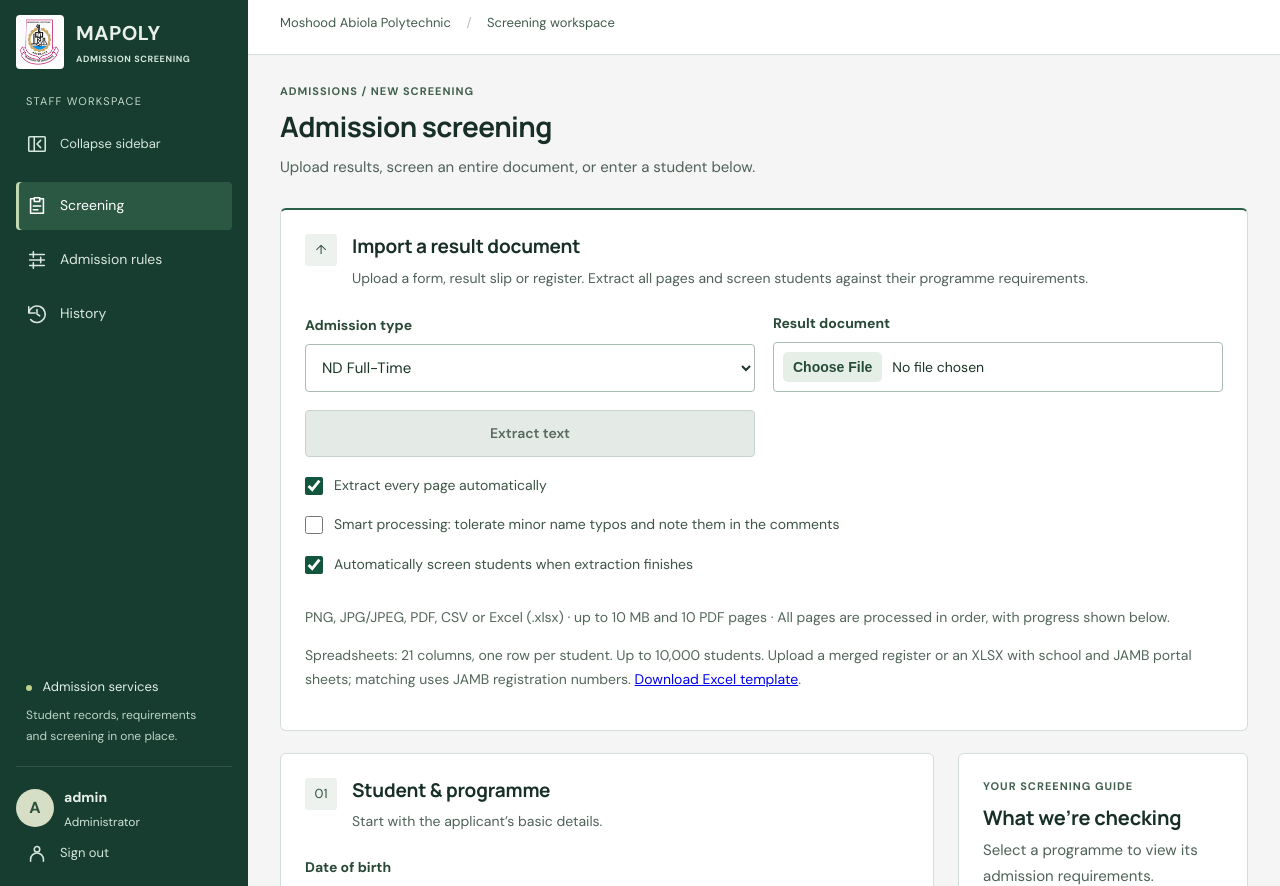
Test: manual screening workspace › lets staff save changed requirements
Click the button "Admission rules" at (124, 260), box [16,236,232,284]
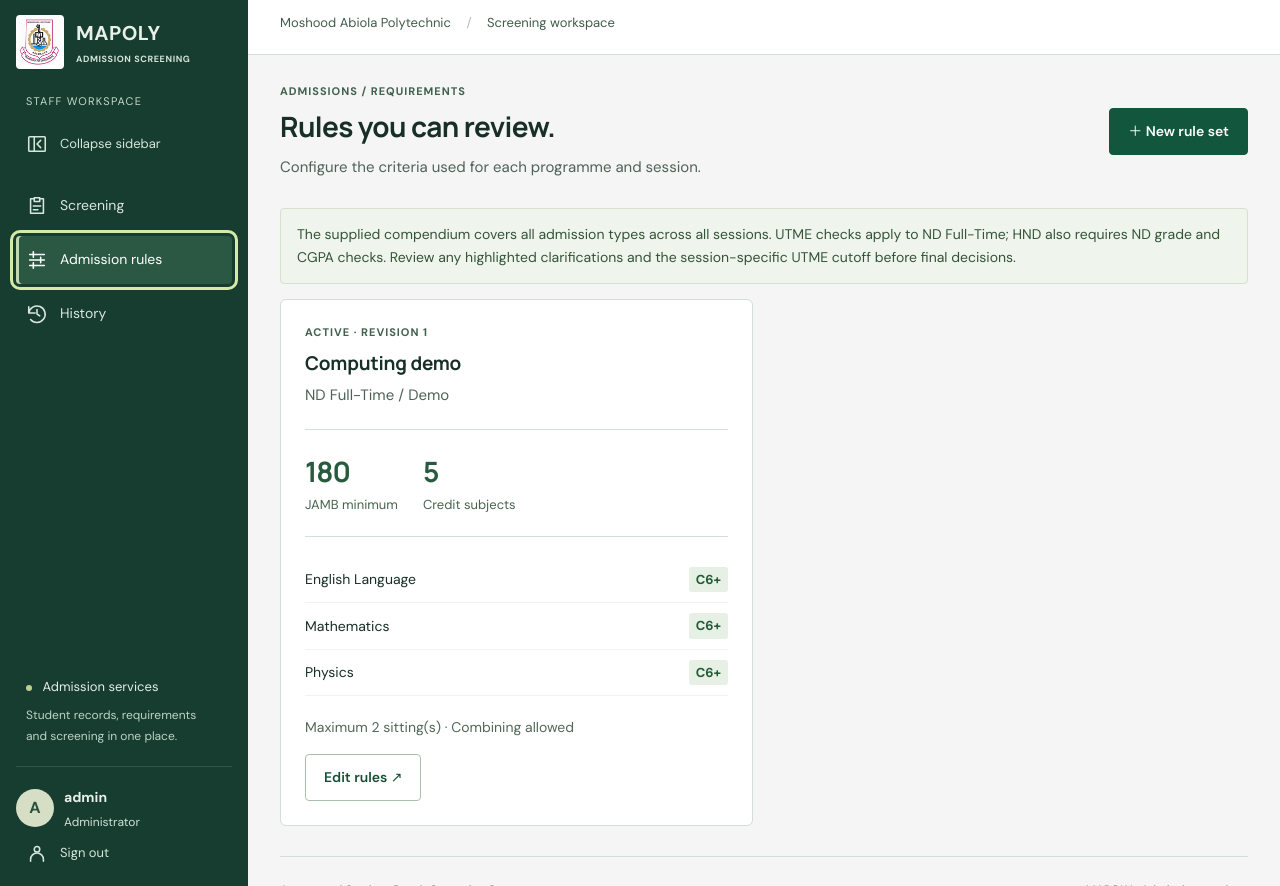
Click the button "Edit rules ↗" at (363, 778), box [305,754,422,801]
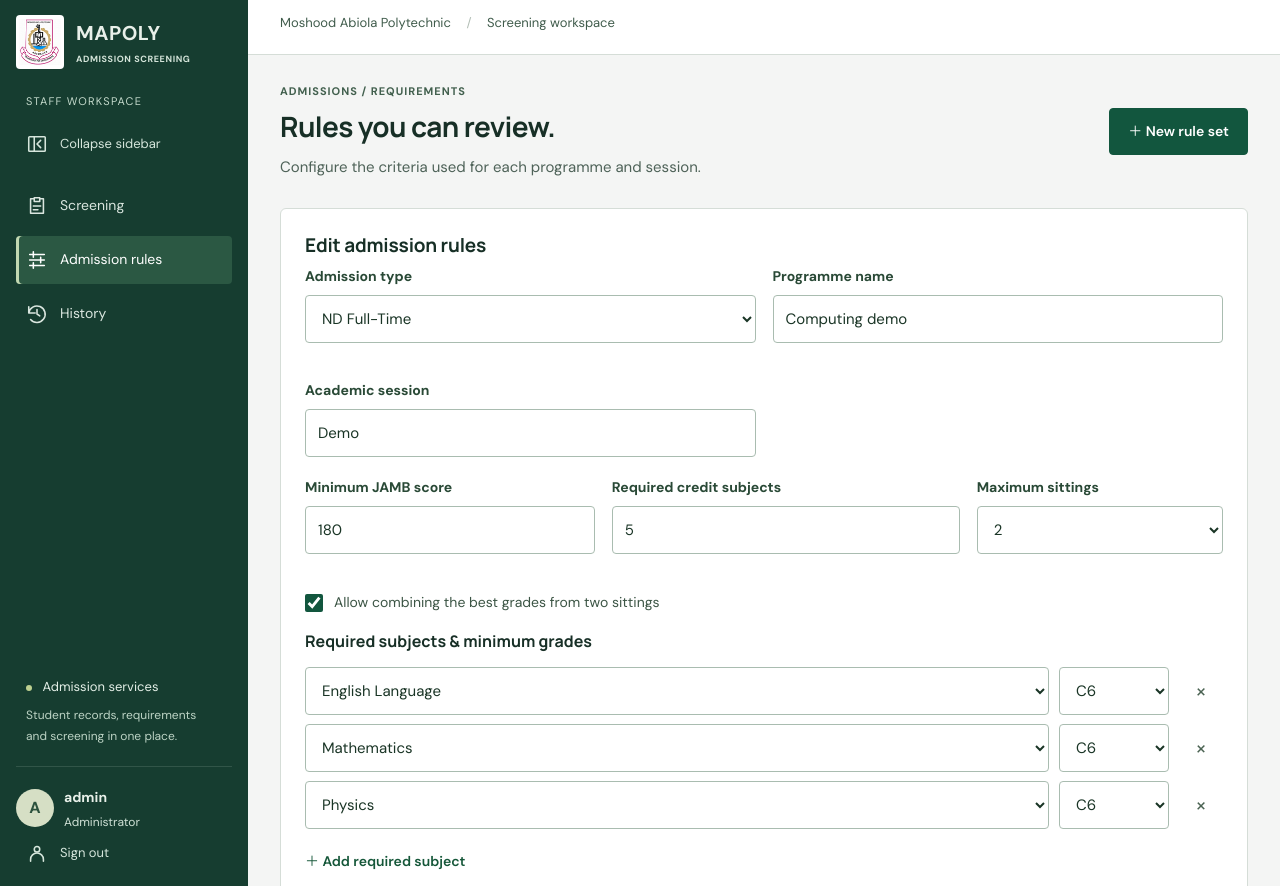
Replace the text in the number field labelled "Minimum JAMB score" with "220" at (450, 530), box [305,506,595,554]
(page scrolled)
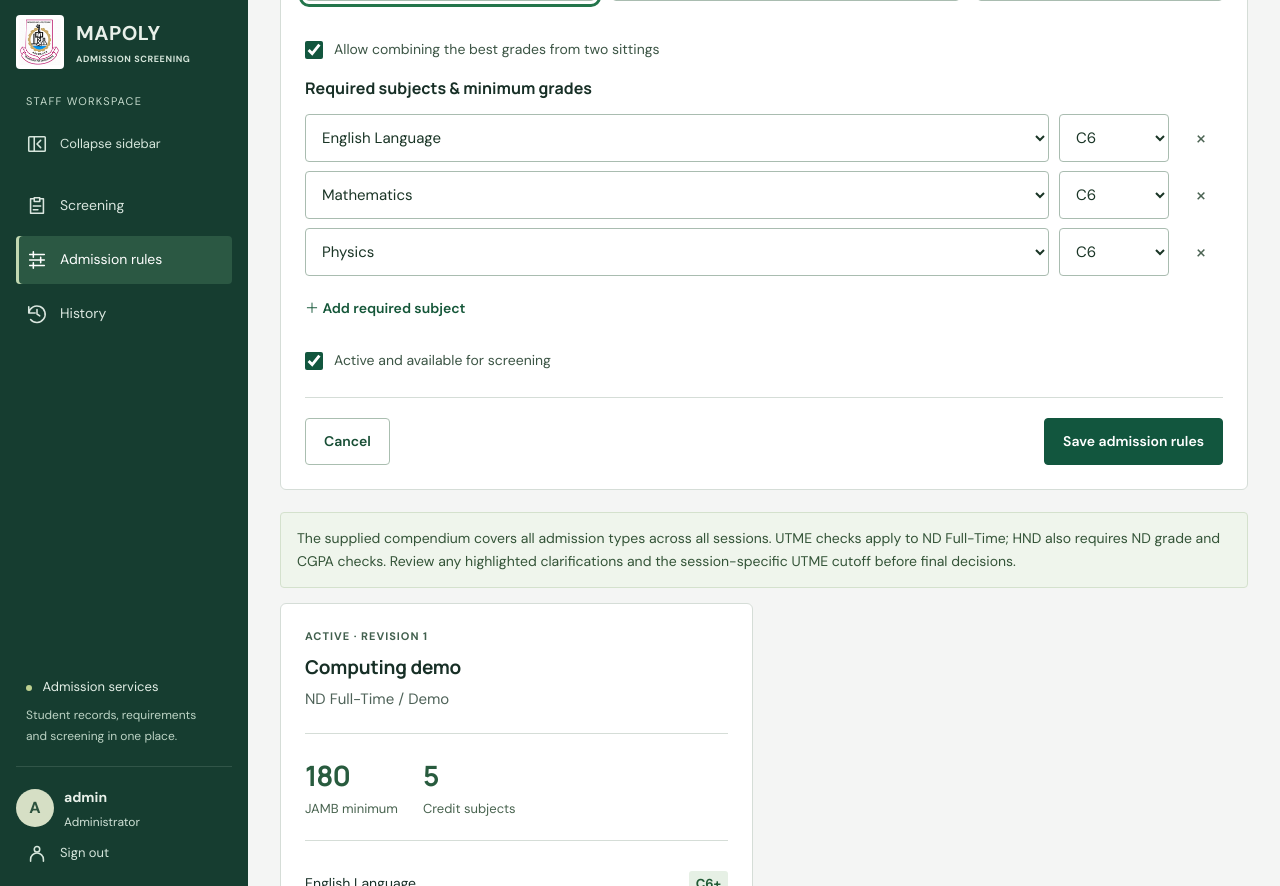
Click the button "Save admission rules" at (1134, 441), box [1044,418,1223,465]
(page scrolled)
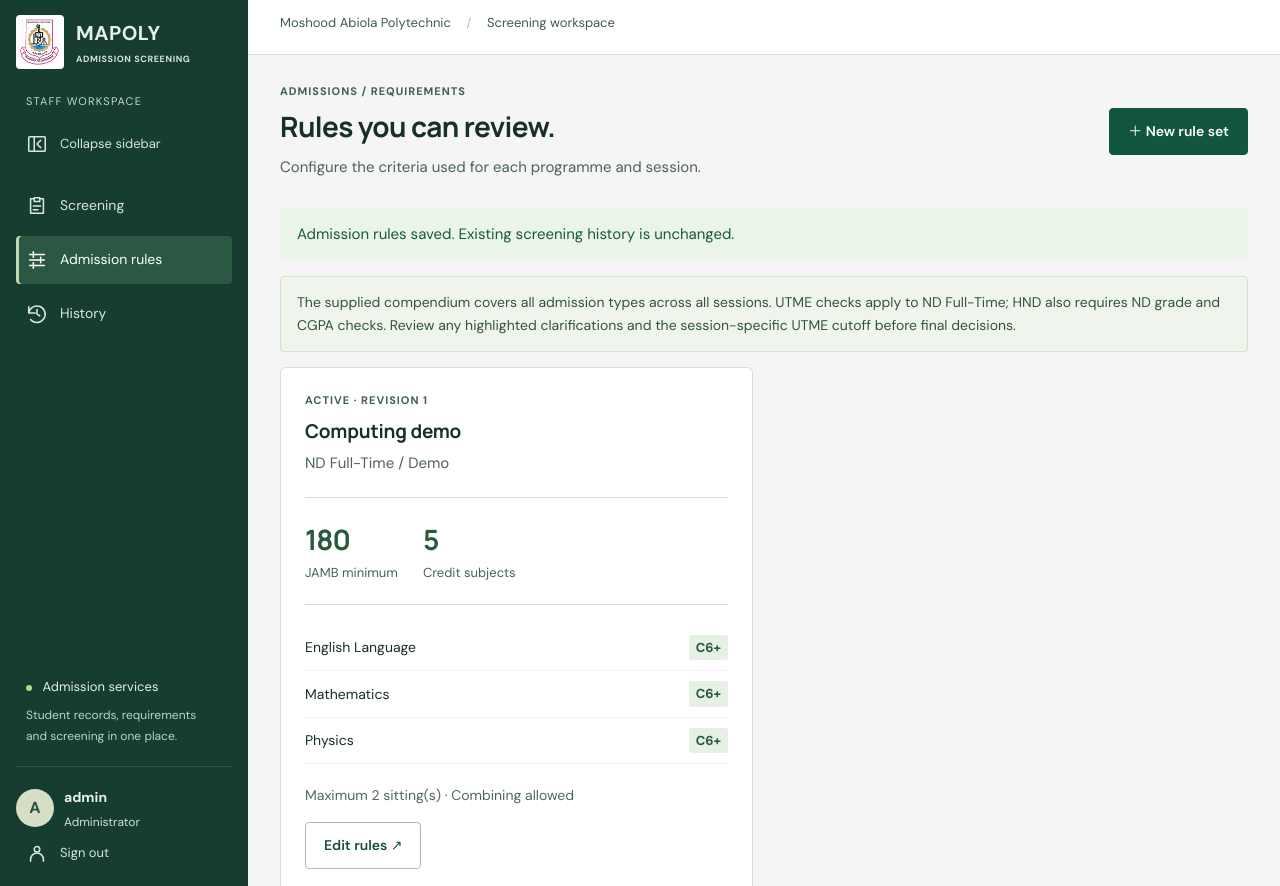
Expected: the text "Admission rules saved. Existing screening history is unchanged." is shown, [280,208,1248,260]
